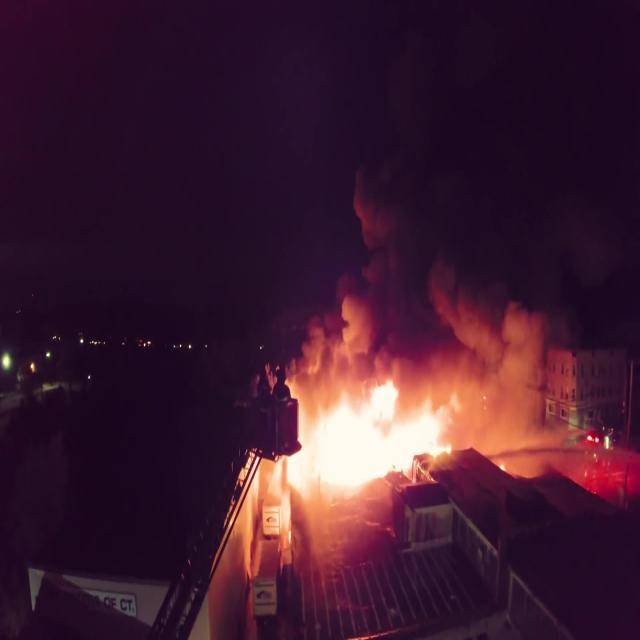fire: (306, 389, 402, 479)
